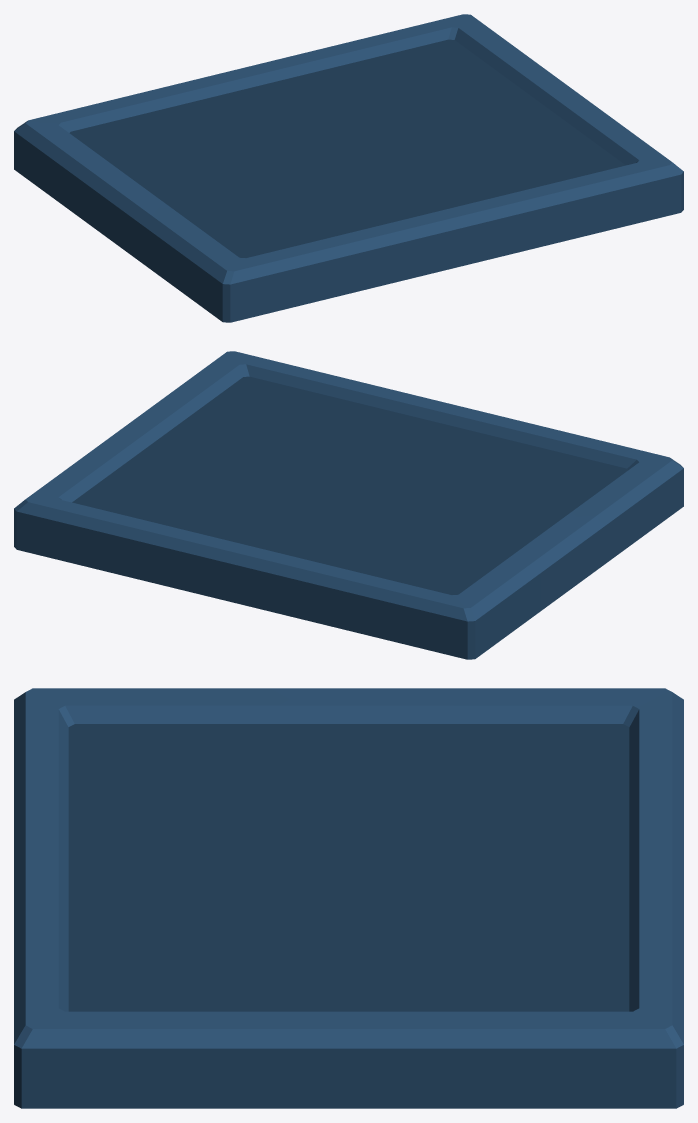
The model's file is RoofAdd_1_F.fbx.
3 renders of one model, top to bottom at view 1: azimuth 30°, elevation 25°; view 2: azimuth 150°, elevation 25°; view 3: azimuth 270°, elevation 25°, orthographic. The views are drawn at different scales.
Visible parts, largest first — view 1: RoofAdd_1_F; view 2: RoofAdd_1_F; view 3: RoofAdd_1_F.
Boxes of the visible parts, x1=… form: RoofAdd_1_F: x1=14, y1=14, x2=683, y2=322; RoofAdd_1_F: x1=14, y1=351, x2=683, y2=659; RoofAdd_1_F: x1=14, y1=688, x2=683, y2=1108.
Bounding box in the file's own units: 126 × 12.27 × 101.
